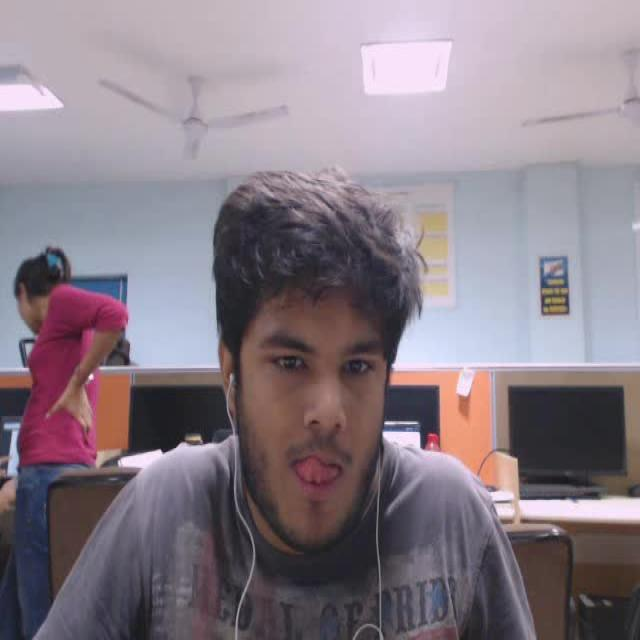Bored: (196, 134, 493, 604)
